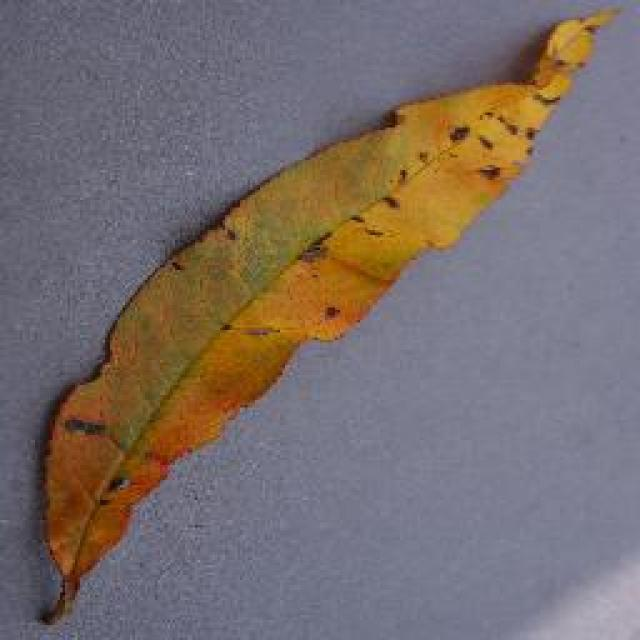Bacterial_spot: (32, 0, 620, 632)
